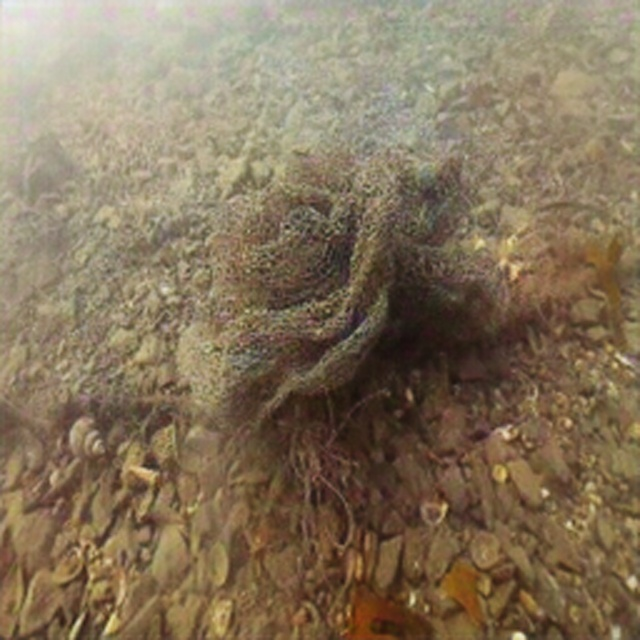mine: (186, 118, 504, 432)
